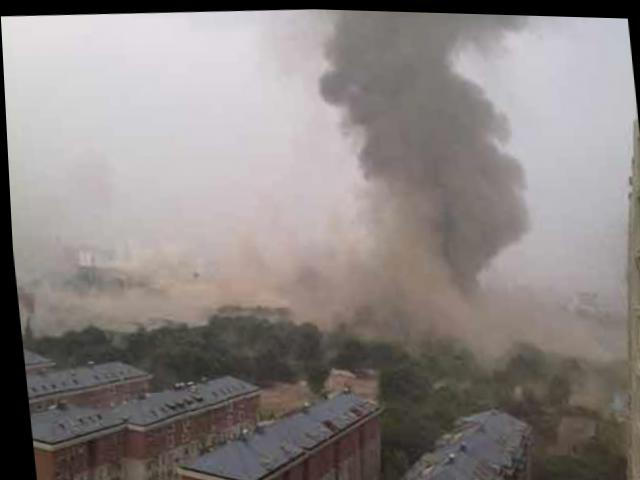smoke: (357, 97, 508, 238), (338, 9, 456, 103), (404, 230, 495, 294)
